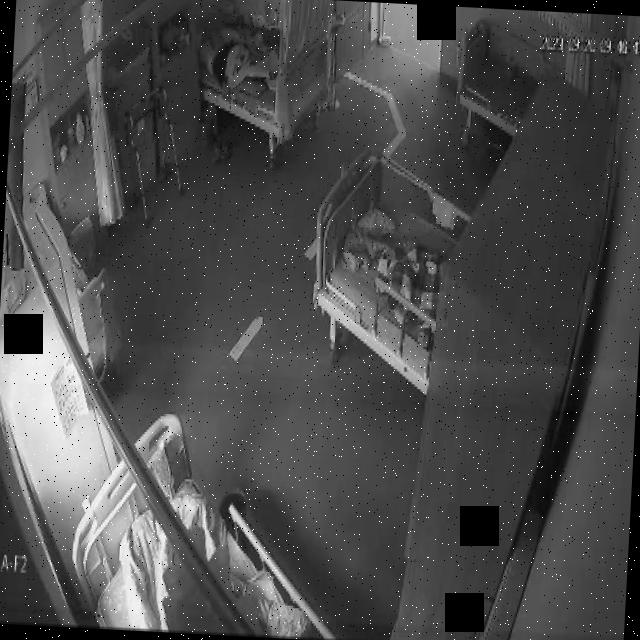bed: (69, 410, 312, 640), (307, 144, 453, 394), (196, 12, 330, 144), (444, 17, 540, 127)
walker: (119, 80, 193, 230)
